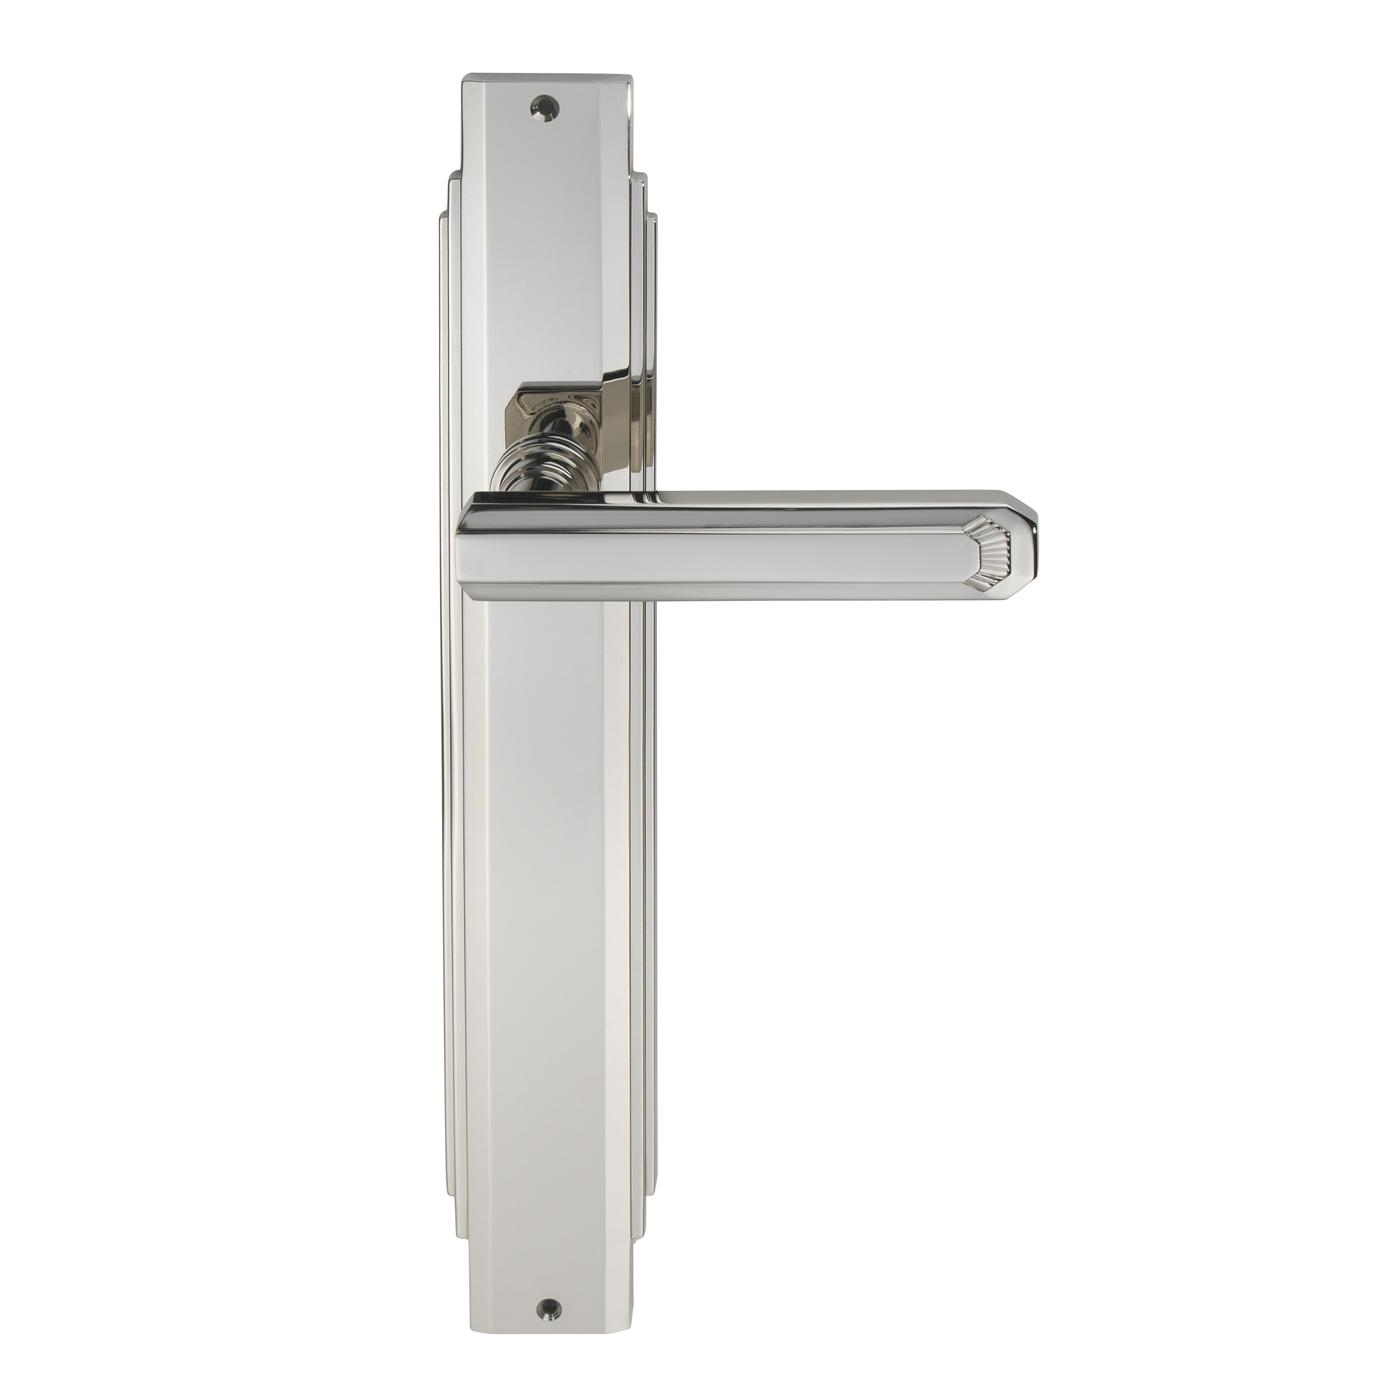doorhandle: (335, 385, 1142, 655)
